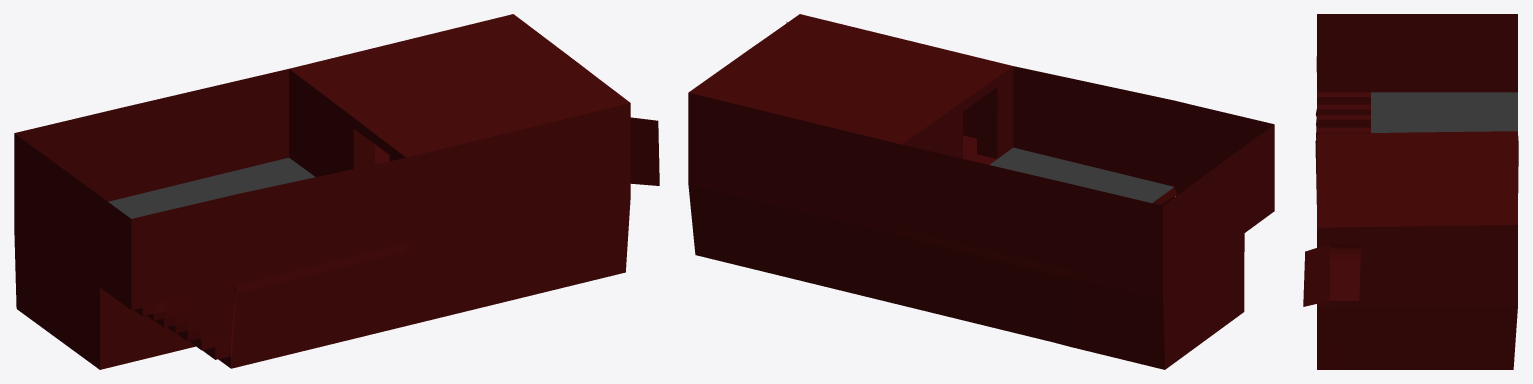
Rendered from map_layout.fbx.
3 renders of one model, left to right at view 1: azimuth 30°, elevation 25°; view 2: azimuth 150°, elevation 25°; view 3: azimuth 270°, elevation 25°, orthographic. The views are drawn at different scales.
Parts seen in each view (by area): view 1: Plane; view 2: Plane; view 3: Plane.
Part boxes in pixels (x1,y1,x2,y2): Plane: [14, 14, 659, 369]; Plane: [688, 14, 1274, 369]; Plane: [1303, 14, 1518, 369].
Size of the model in its own units: 1776 by 568 by 744.
